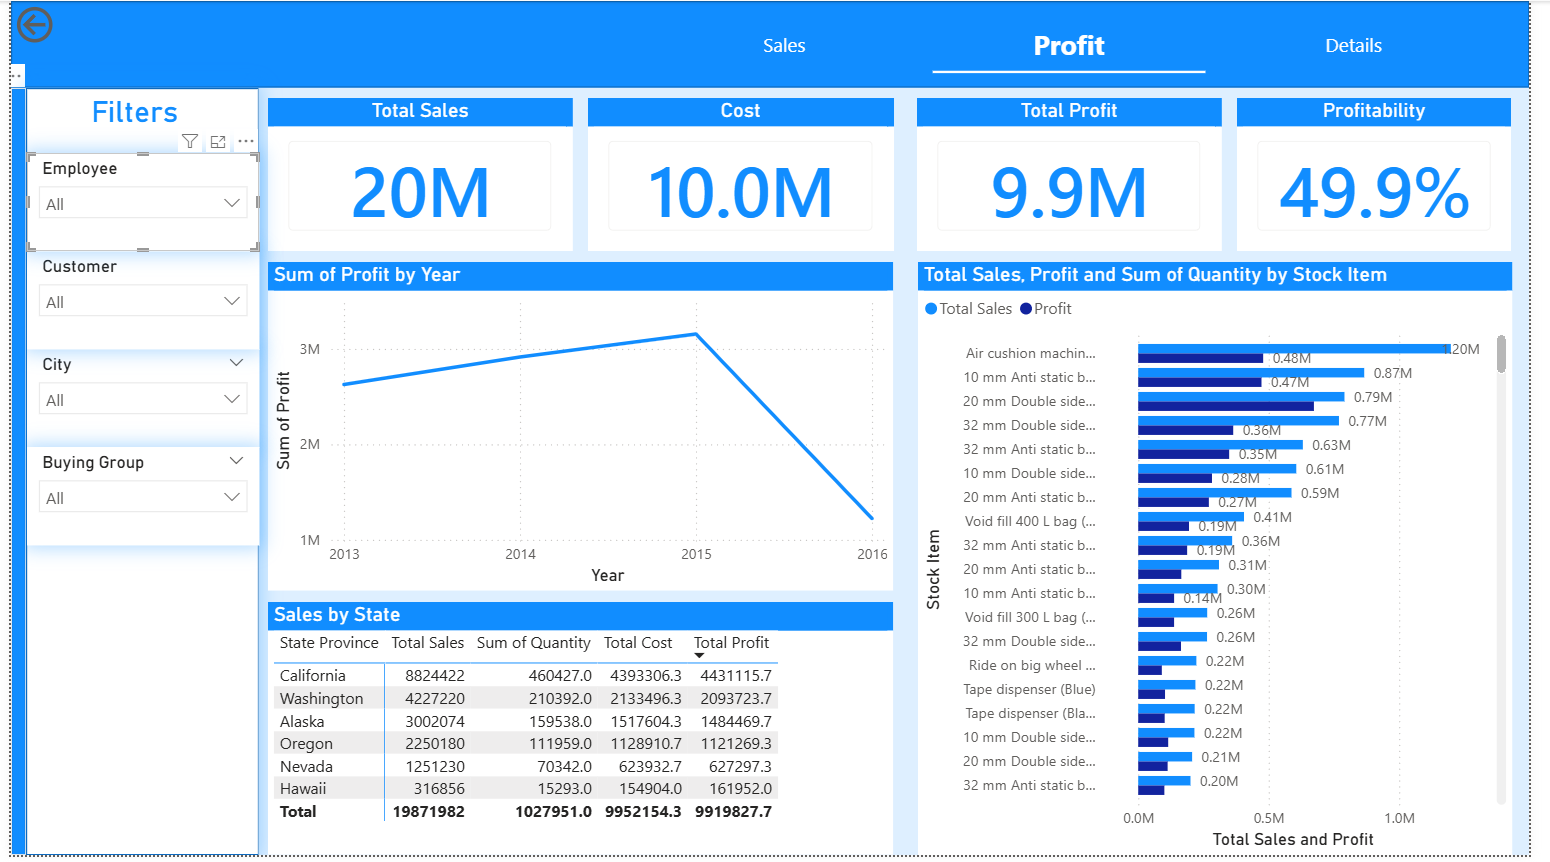

The page's visual inventory and layout, read from the dashboard file:
{"tool":"powerbi","page":{"name":"Profit","canvas":[1280,720],"ordinal":1},"visuals":[{"type":"shape","box":[0,0,1280,73],"z":0},{"type":"shape","box":[0,73,12.6,646.8],"z":1000},{"type":"shape","box":[12.6,73,196.5,646.8],"z":2000},{"type":"cardVisual","title":"Total Sales","fields":{"Data":["Sum(FactSale.Total Excluding Tax)"]},"box":[216.9,81.7,256.8,129.4],"z":3000},{"type":"cardVisual","title":"Cost","fields":{"Data":["Sum(FactSale.Cost)"]},"box":[486.3,81.7,257.8,129.4],"z":4000},{"type":"cardVisual","title":"Total Profit","fields":{"Data":["Sum(FactSale.Profit)"]},"box":[764.2,81.7,256.8,129.4],"z":5000},{"type":"cardVisual","title":"Profitability","fields":{"Data":["FactSale.Profitability"]},"box":[1033.9,81.7,231.5,129.4],"z":6000},{"type":"lineChart","fields":{"Category":["DimDate.Date.Variation.Date Hierarchy.Year","DimDate.Date.Variation.Date Hierarchy.Quarter","DimDate.Date.Variation.Date Hierarchy.Month","DimDate.Date.Variation.Date Hierarchy.Day"],"Y":["Sum(FactSale.Profit)"]},"box":[216.9,219.8,527.2,277.2],"z":7000},{"type":"clusteredBarChart","fields":{"Category":["DimStock Item.Stock Item"],"Y":["Sum(FactSale.Total Excluding Tax)","Sum(FactSale.Profit)"]},"box":[764.5,219.8,500.9,499.9],"z":8000},{"type":"pivotTable","title":"Sales by State","fields":{"Values":["Sum(FactSale.Total Excluding Tax)","Sum(FactSale.Quantity)","Sum(FactSale.Cost)","Sum(FactSale.Profit)"],"Rows":["DimCity.State Province"]},"box":[216.9,506.8,527.2,213],"z":9000},{"type":"actionButton","box":[0,0,100,40],"z":10000},{"type":"slicer","fields":{"Values":["DimEmployee.Employee"]},"box":[13.6,128.4,195.5,82.7],"z":11000},{"type":"textbox","title":"Filters","box":[20.4,78.8,168.3,40.9],"z":12000},{"type":"slicer","fields":{"Values":["DimCity.City"]},"box":[13.6,293.7,195.5,82.7],"z":13000},{"type":"slicer","fields":{"Values":["DimCustomers.Customer"]},"box":[13.6,211.1,195.5,82.7],"z":14000},{"type":"slicer","fields":{"Values":["DimCustomers.Buying Group"]},"box":[13.6,376.4,195.5,82.7],"z":15000},{"type":"pageNavigator","box":[536.9,11.7,711,49.6],"z":17000}]}

Visuals, with their boxes on the page's 1280x720 design canvas (x1, y1, x2, y2). These are canvas units, not pixel positions in the 1550x862 screenshot, which may show the page scaled, cropped or inside an application window:
shape: x1=0 y1=0 x2=1280 y2=73
shape: x1=0 y1=73 x2=13 y2=720
shape: x1=13 y1=73 x2=209 y2=720
"Total Sales" cardVisual: x1=217 y1=82 x2=474 y2=211
"Cost" cardVisual: x1=486 y1=82 x2=744 y2=211
"Total Profit" cardVisual: x1=764 y1=82 x2=1021 y2=211
"Profitability" cardVisual: x1=1034 y1=82 x2=1265 y2=211
lineChart - DimDate.Date.Variation.Date Hierarchy.Year x DimDate.Date.Variation.Date Hierarchy.Quarter: x1=217 y1=220 x2=744 y2=497
clusteredBarChart - DimStock Item.Stock Item x Sum(FactSale.Total Excluding Tax): x1=764 y1=220 x2=1265 y2=720
"Sales by State" pivotTable: x1=217 y1=507 x2=744 y2=720
actionButton: x1=0 y1=0 x2=100 y2=40
slicer - DimEmployee.Employee: x1=14 y1=128 x2=209 y2=211
"Filters" textbox: x1=20 y1=79 x2=189 y2=120
slicer - DimCity.City: x1=14 y1=294 x2=209 y2=376
slicer - DimCustomers.Customer: x1=14 y1=211 x2=209 y2=294
slicer - DimCustomers.Buying Group: x1=14 y1=376 x2=209 y2=459
pageNavigator: x1=537 y1=12 x2=1248 y2=61
